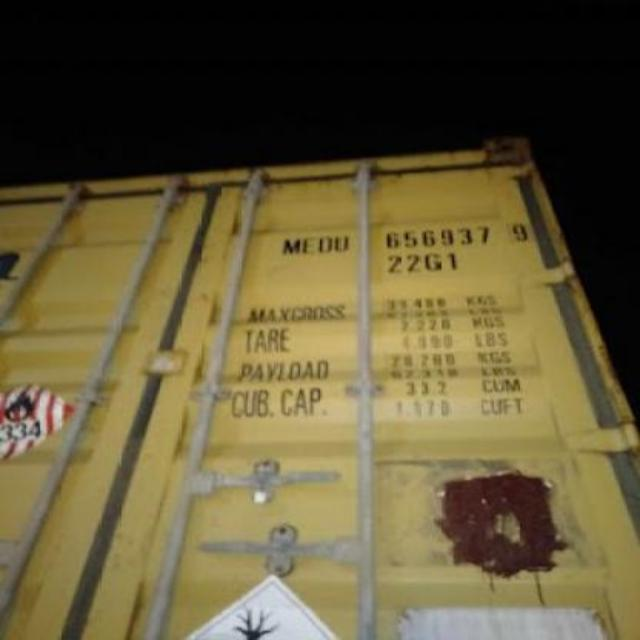3: (454, 222, 474, 246)
5: (402, 226, 420, 248)
6: (381, 222, 402, 250), (420, 226, 436, 248)
7: (476, 222, 494, 248)
9: (508, 216, 534, 250), (438, 224, 454, 246)
D: (316, 232, 332, 258)
E: (300, 232, 316, 254)
M: (280, 232, 300, 258)
U: (334, 231, 352, 257)
